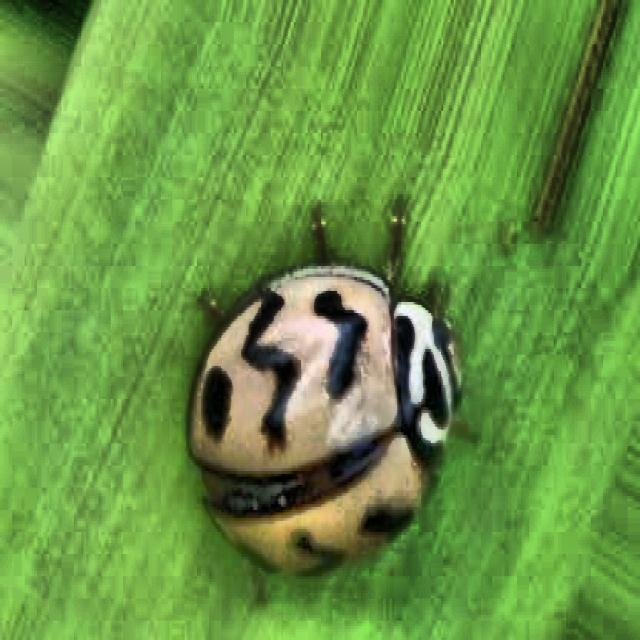Asian-Lady-beetle: (157, 198, 499, 640)
